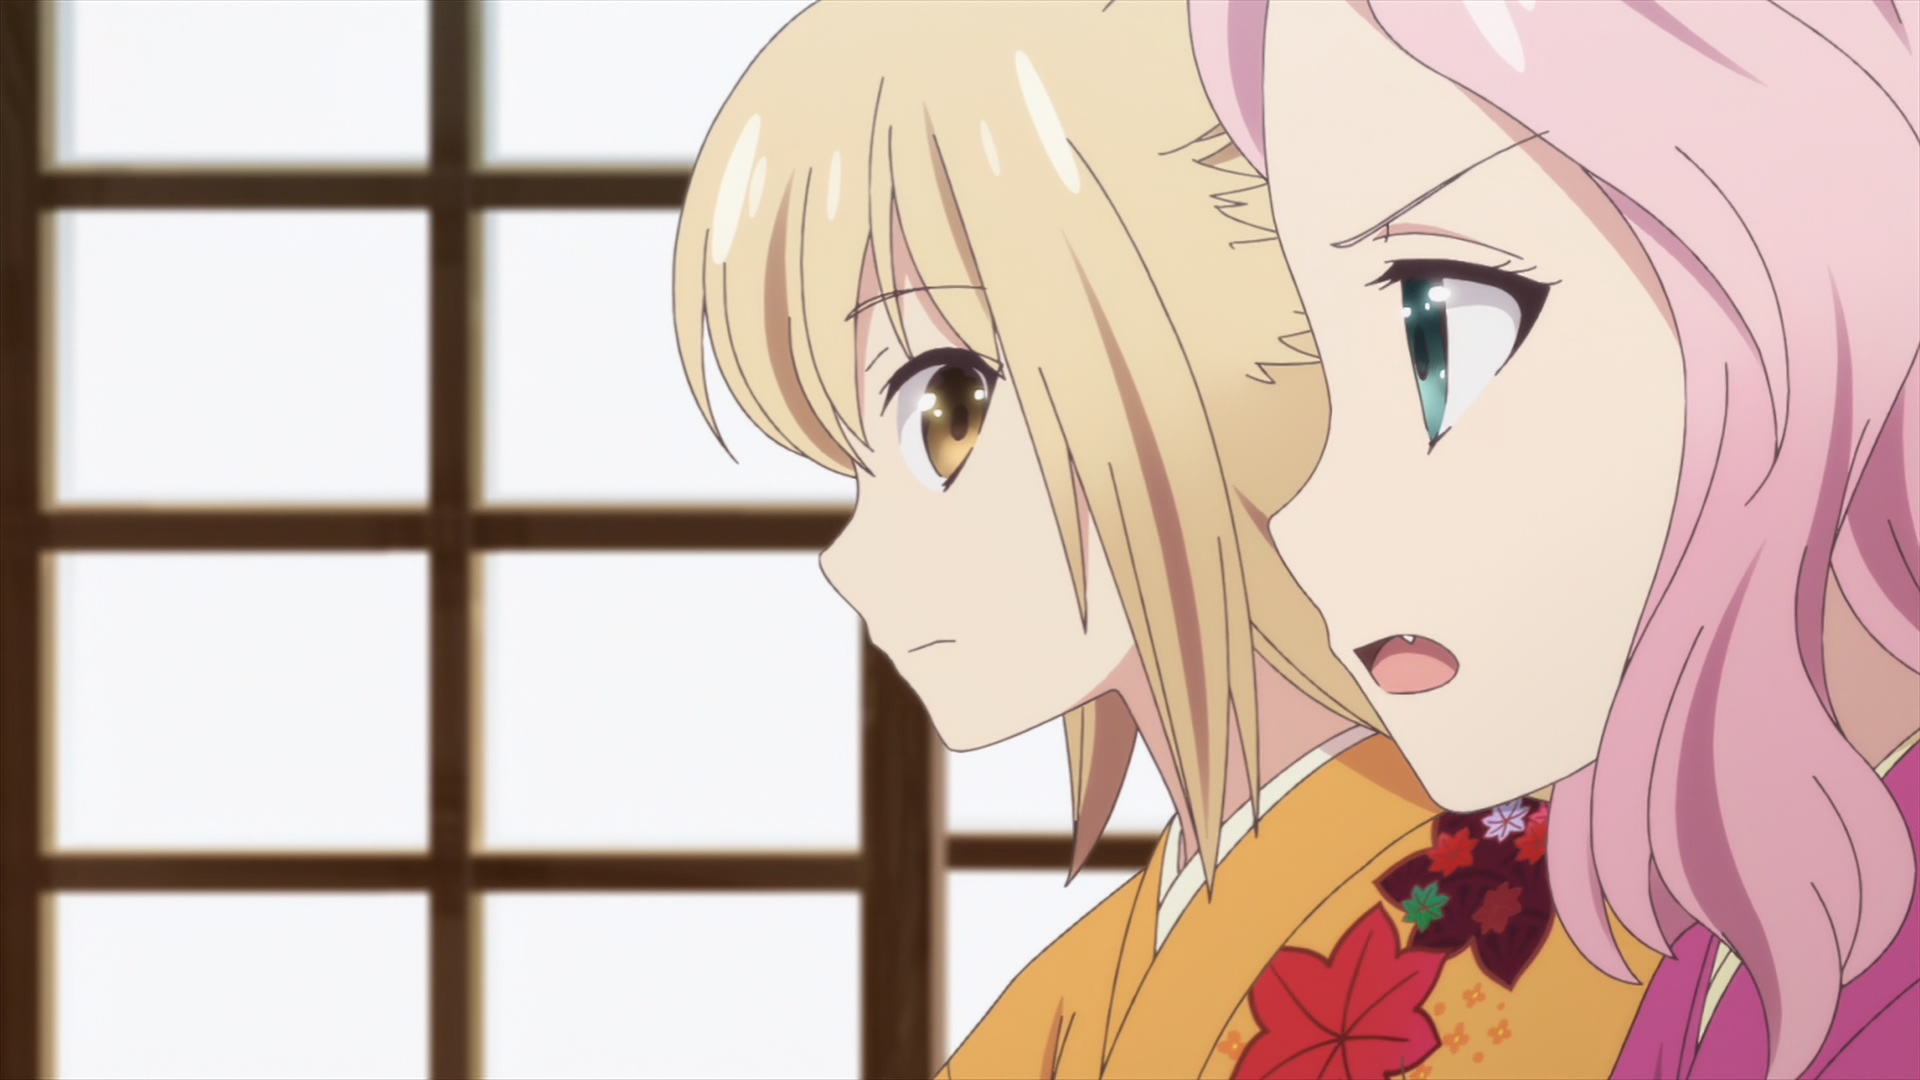柚: (670, 1, 1663, 1080)
莲: (1187, 1, 1920, 1080)
